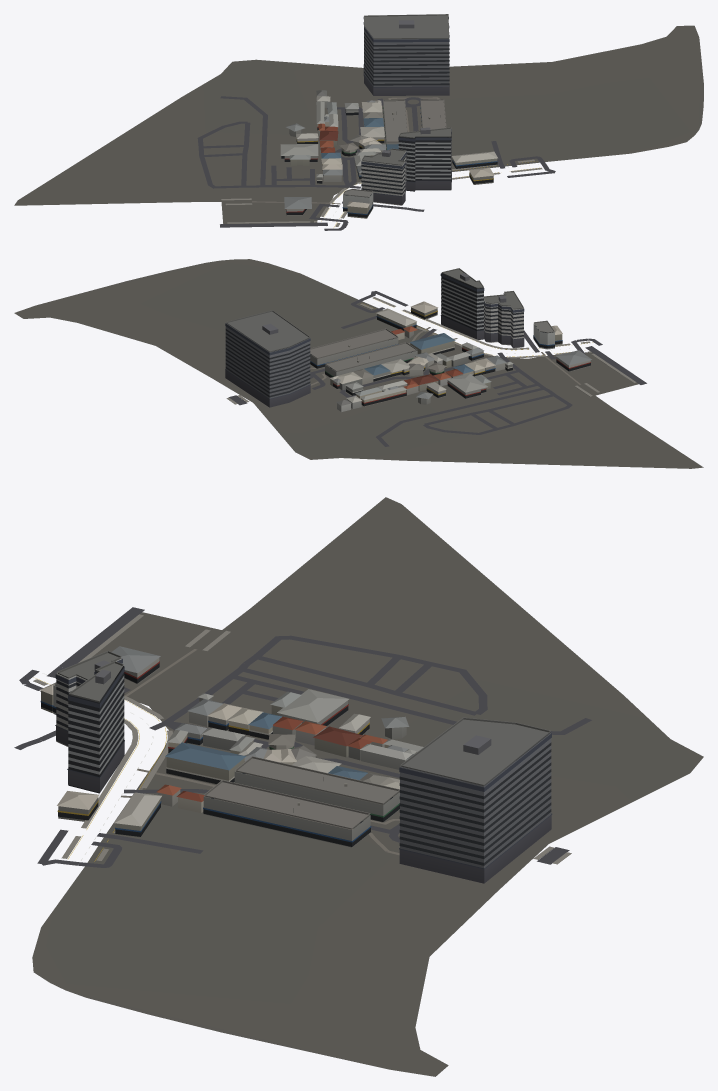
The picture shows the model from 3 angles, top to bottom: view 1: azimuth 30°, elevation 25°; view 2: azimuth 150°, elevation 25°; view 3: azimuth 270°, elevation 25°; orthographic projection. The views are drawn at different scales.
Parts seen in each view (by area): view 1: Landuse__r-4c2, Faustina Center-col, Buildings__r-4c2-col, Roads_Minor__r-4c2, Citi Park Annex-col, Citi Park Hotel-col, Sidewalks__r-4c2-col, Galaxy Motors-col, Rainforest Park Cebu-col, Windows__r-4c2, Strand Tower-col, Shakey's-col; view 2: Landuse__r-4c2, Buildings__r-4c2-col, Faustina Center-col, Roads_Minor__r-4c2, Citi Park Annex-col, Citi Park Hotel-col, Windows__r-4c2, Sidewalks__r-4c2-col, Rainforest Park Cebu-col, Strand Tower-col, Shakey's-col, Galaxy Motors-col (+1 smaller); view 3: Landuse__r-4c2, Buildings__r-4c2-col, Faustina Center-col, Roads_Minor__r-4c2, Citi Park Annex-col, Windows__r-4c2, Sidewalks__r-4c2-col, Citi Park Hotel-col, Rainforest Park Cebu-col, Galaxy Motors-col, Shakey's-col.
Boxes of the visible parts, bbox=[...] form: Landuse__r-4c2: bbox=[14, 25, 703, 223]; Faustina Center-col: bbox=[363, 14, 449, 95]; Buildings__r-4c2-col: bbox=[286, 90, 494, 218]; Roads_Minor__r-4c2: bbox=[197, 96, 555, 230]; Citi Park Annex-col: bbox=[398, 127, 451, 191]; Citi Park Hotel-col: bbox=[361, 148, 406, 205]; Sidewalks__r-4c2-col: bbox=[221, 159, 542, 226]; Galaxy Motors-col: bbox=[451, 151, 497, 168]; Rainforest Park Cebu-col: bbox=[280, 144, 318, 162]; Windows__r-4c2: bbox=[296, 107, 493, 217]; Strand Tower-col: bbox=[342, 188, 373, 214]; Shakey's-col: bbox=[284, 197, 311, 215]; Landuse__r-4c2: bbox=[14, 259, 703, 468]; Buildings__r-4c2-col: bbox=[310, 301, 562, 411]; Faustina Center-col: bbox=[225, 310, 310, 407]; Roads_Minor__r-4c2: bbox=[228, 291, 646, 446]; Citi Park Annex-col: bbox=[440, 268, 484, 339]; Citi Park Hotel-col: bbox=[484, 291, 524, 348]; Windows__r-4c2: bbox=[310, 310, 562, 406]; Sidewalks__r-4c2-col: bbox=[226, 297, 636, 404]; Rainforest Park Cebu-col: bbox=[447, 373, 487, 398]; Strand Tower-col: bbox=[533, 320, 554, 349]; Shakey's-col: bbox=[556, 350, 591, 371]; Galaxy Motors-col: bbox=[376, 308, 416, 330]; Landuse__r-4c2: bbox=[32, 497, 703, 1076]; Buildings__r-4c2-col: bbox=[25, 675, 423, 847]; Faustina Center-col: bbox=[399, 717, 552, 883]; Roads_Minor__r-4c2: bbox=[14, 607, 591, 867]; Citi Park Annex-col: bbox=[67, 661, 124, 793]; Windows__r-4c2: bbox=[40, 701, 399, 846]; Sidewalks__r-4c2-col: bbox=[33, 614, 571, 864]; Citi Park Hotel-col: bbox=[55, 651, 122, 746]; Rainforest Park Cebu-col: bbox=[277, 689, 348, 726]; Galaxy Motors-col: bbox=[114, 792, 161, 837]; Shakey's-col: bbox=[111, 646, 160, 684].
Size of the model in its own units: 635 by 54.3 by 320.
